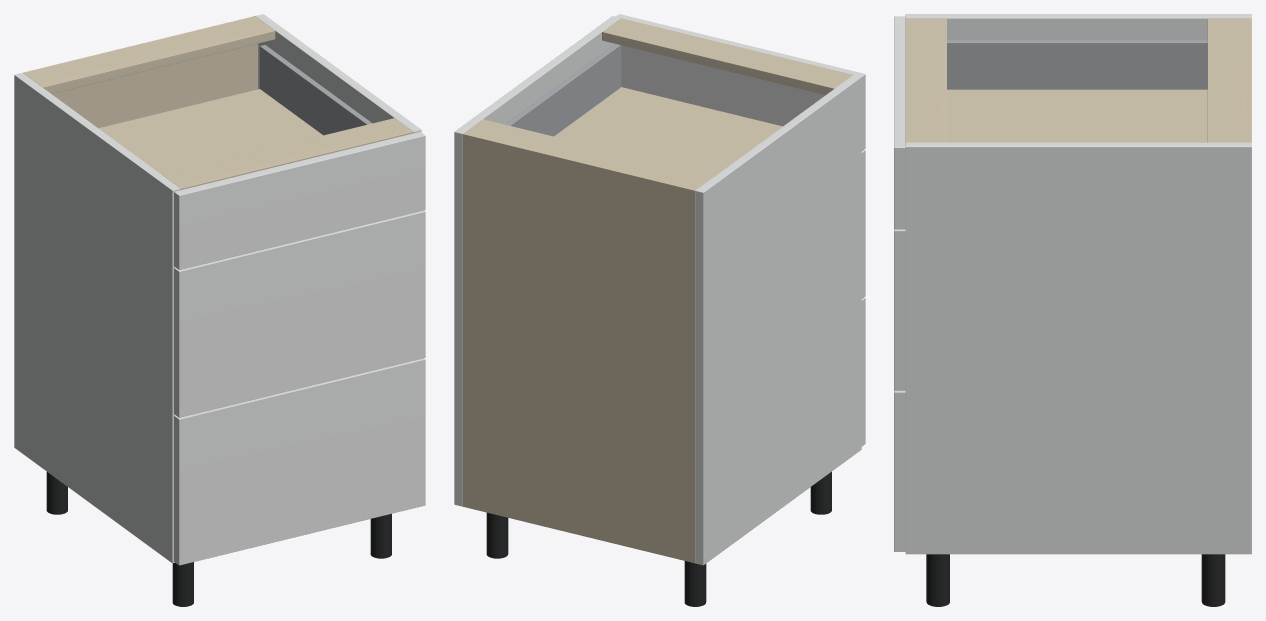
File: oppein-ply-pgw-3db21.glb
The picture shows the model from 3 angles, left to right: view 1: azimuth 30°, elevation 25°; view 2: azimuth 150°, elevation 25°; view 3: azimuth 270°, elevation 25°; orthographic projection. The views are drawn at different scales.
Visible parts, largest first — view 1: Cabinet side, Drawer front, Drawer front.001, Drawer front.002, Drawer floor.002, Cabinet back, Top support rail, Top support rail.001, Drawer side.005, Cabinet side.001, Adjustable foot.001, Adjustable foot.003 (+1 smaller); view 2: Cabinet back, Cabinet side, Drawer floor.002, Drawer front.002, Cabinet side.001, Top support rail.001, Drawer side.005, Top support rail, Adjustable foot, Adjustable foot.002, Adjustable foot.001, Drawer front (+1 smaller); view 3: Cabinet side.001, Drawer floor.002, Drawer side.004, Cabinet side, Top support rail.001, Top support rail, Drawer front.002, Drawer front, Drawer front.001, Adjustable foot.002, Adjustable foot.003, Cabinet back.
Part boxes in pixels (box(x1,y1,x2,y2)): Cabinet side: box(14, 73, 180, 563); Drawer front: box(174, 358, 425, 565); Drawer front.001: box(174, 210, 425, 417); Drawer front.002: box(174, 131, 425, 269); Drawer floor.002: box(99, 89, 322, 174); Cabinet back: box(23, 16, 258, 128); Top support rail: box(24, 18, 275, 93); Top support rail.001: box(162, 118, 413, 189); Drawer side.005: box(260, 45, 372, 135); Cabinet side.001: box(255, 14, 421, 133); Adjustable foot.001: box(172, 562, 193, 606); Adjustable foot.003: box(370, 514, 391, 558); Cabinet back: box(462, 132, 697, 563); Cabinet side: box(695, 75, 861, 565); Drawer floor.002: box(554, 87, 782, 175); Drawer front.002: box(615, 14, 865, 150); Cabinet side.001: box(454, 16, 620, 506); Top support rail.001: box(602, 18, 852, 94); Drawer side.005: box(505, 43, 621, 136); Top support rail: box(466, 119, 714, 188); Adjustable foot: box(684, 561, 706, 606); Adjustable foot.002: box(486, 512, 508, 558); Adjustable foot.001: box(810, 471, 831, 514); Drawer front: box(861, 297, 865, 446); Cabinet side.001: box(905, 142, 1251, 554); Drawer floor.002: box(947, 89, 1207, 142); Drawer side.004: box(947, 40, 1207, 89); Cabinet side: box(905, 14, 1251, 39); Top support rail.001: box(905, 18, 946, 142); Top support rail: box(1207, 18, 1245, 142); Drawer front.002: box(894, 16, 905, 229); Drawer front: box(894, 390, 905, 551); Drawer front.001: box(894, 229, 905, 390); Adjustable foot.002: box(1201, 554, 1225, 606); Adjustable foot.003: box(926, 554, 949, 606); Cabinet back: box(1245, 18, 1251, 142).
Bounding box in the file's own units: 0.5334 × 0.8763 × 0.6064.
